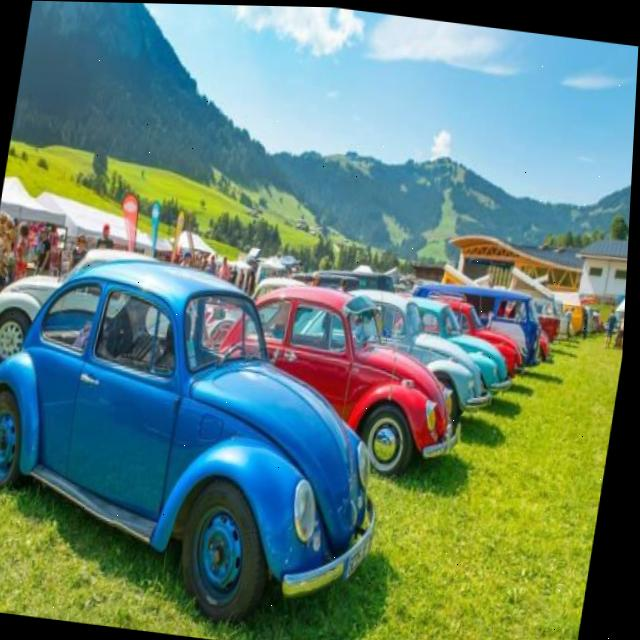vehicle: (0, 245, 416, 611), (233, 262, 471, 470)
